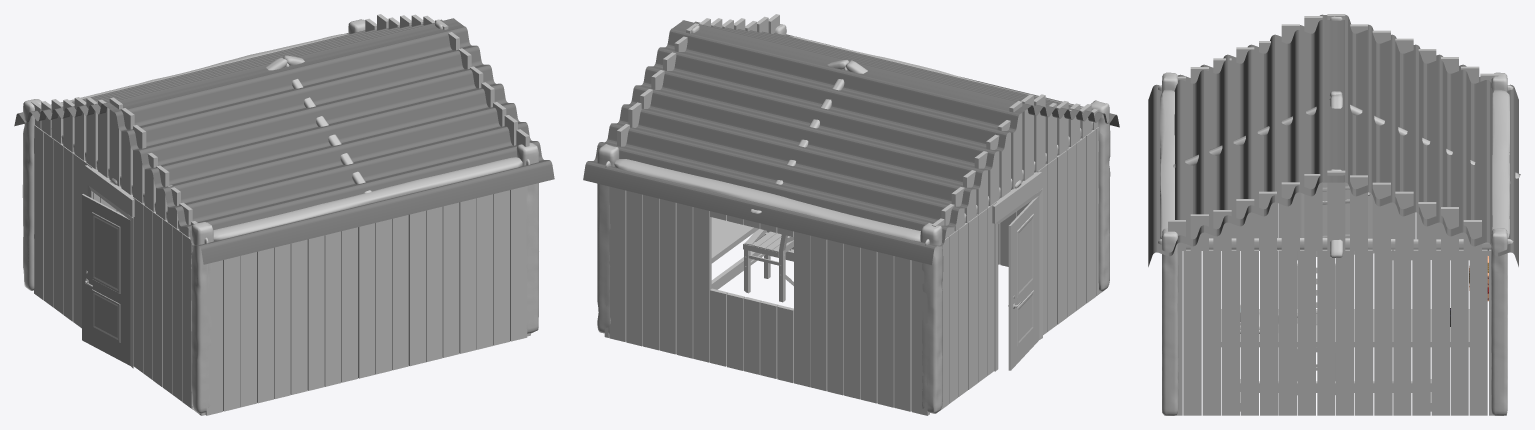
Rendered from Ultimate Hub.fbx.
3 renders of one model, left to right at view 1: azimuth 30°, elevation 25°; view 2: azimuth 150°, elevation 25°; view 3: azimuth 270°, elevation 25°, orthographic. The views are drawn at different scales.
Parts seen in each view (by area): view 1: Plane.001, crate wooden box, medium plank LP_medium plank_0.009, tall plank LP_tell plank_0.003, woodPlankL1_WoodPack_0.008, woodPlankL3_WoodPack_0.010, woodPlankL3_WoodPack_0.009, woodPlankL1_WoodPack_0.006, woodPlankL1_WoodPack_0.011, woodPlankL2_WoodPack_0.007, woodPlankL3_WoodPack_0.008, woodPlankL3_WoodPack_0.007 (+35 smaller); view 2: Plane.001, crate wooden box, medium plank LP_medium plank_0.008, tall plank LP_tell plank_0.002, woodPlankL1, woodPlankL2_WoodPack_0.004, woodPlankL2, woodPlankL3, woodPlankL3_WoodPack_0.001, woodPlankL3_WoodPack_0.004, woodPlankL1_WoodPack_0.004, woodPlankL3_WoodPack_0.005 (+38 smaller); view 3: Plane.001, woodPlankL2_WoodPack_0.017, woodPlankL1_WoodPack_0.013, woodPlankL1_WoodPack_0.017, woodPlankL2_WoodPack_0.012, woodPlankL2_WoodPack_0.013, woodPlankL2_WoodPack_0.015, woodPlankL2_WoodPack_0.016, woodPlankL3_WoodPack_0.016, woodPlankL2_WoodPack_0.014, woodPlankL3_WoodPack_0.012, woodPlankL1_WoodPack_0.014 (+29 smaller).
Boxes of the visible parts, <box> form: Plane.001: <box>14,18,554,264</box>; crate wooden box: <box>82,185,133,368</box>; medium plank LP_medium plank_0.009: <box>213,157,522,241</box>; tall plank LP_tell plank_0.003: <box>191,222,213,413</box>; woodPlankL1_WoodPack_0.008: <box>324,231,341,386</box>; woodPlankL3_WoodPack_0.010: <box>459,198,476,353</box>; woodPlankL3_WoodPack_0.009: <box>408,210,425,366</box>; woodPlankL1_WoodPack_0.006: <box>223,256,240,411</box>; woodPlankL1_WoodPack_0.011: <box>476,194,493,349</box>; woodPlankL2_WoodPack_0.007: <box>290,239,307,394</box>; woodPlankL3_WoodPack_0.008: <box>358,223,375,378</box>; woodPlankL3_WoodPack_0.007: <box>307,235,324,390</box>; Plane.001: <box>583,20,1119,264</box>; crate wooden box: <box>994,188,1042,371</box>; medium plank LP_medium plank_0.008: <box>614,159,920,241</box>; tall plank LP_tell plank_0.002: <box>920,222,943,413</box>; woodPlankL1: <box>894,256,911,411</box>; woodPlankL2_WoodPack_0.004: <box>676,203,693,358</box>; woodPlankL2: <box>877,252,894,407</box>; woodPlankL3: <box>860,248,877,403</box>; woodPlankL3_WoodPack_0.001: <box>810,235,827,391</box>; woodPlankL3_WoodPack_0.004: <box>659,199,676,354</box>; woodPlankL1_WoodPack_0.004: <box>693,207,711,362</box>; woodPlankL3_WoodPack_0.005: <box>609,186,626,341</box>; Plane.001: <box>1148,14,1518,266</box>; woodPlankL2_WoodPack_0.017: <box>1469,249,1487,415</box>; woodPlankL1_WoodPack_0.013: <box>1221,249,1239,415</box>; woodPlankL1_WoodPack_0.017: <box>1450,249,1468,415</box>; woodPlankL2_WoodPack_0.012: <box>1183,249,1201,415</box>; woodPlankL2_WoodPack_0.013: <box>1240,249,1258,415</box>; woodPlankL2_WoodPack_0.015: <box>1355,249,1373,415</box>; woodPlankL2_WoodPack_0.016: <box>1412,249,1430,415</box>; woodPlankL3_WoodPack_0.016: <box>1431,249,1449,415</box>; woodPlankL2_WoodPack_0.014: <box>1297,249,1315,415</box>; woodPlankL3_WoodPack_0.012: <box>1202,249,1220,415</box>; woodPlankL1_WoodPack_0.014: <box>1278,249,1296,415</box>.
Bounding box in the file's own units: 892 × 612 × 818.
